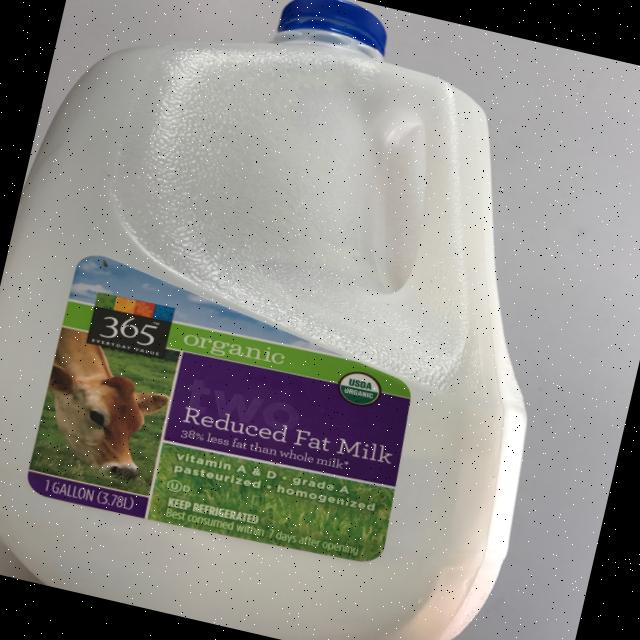plastic: (0, 0, 619, 640)
